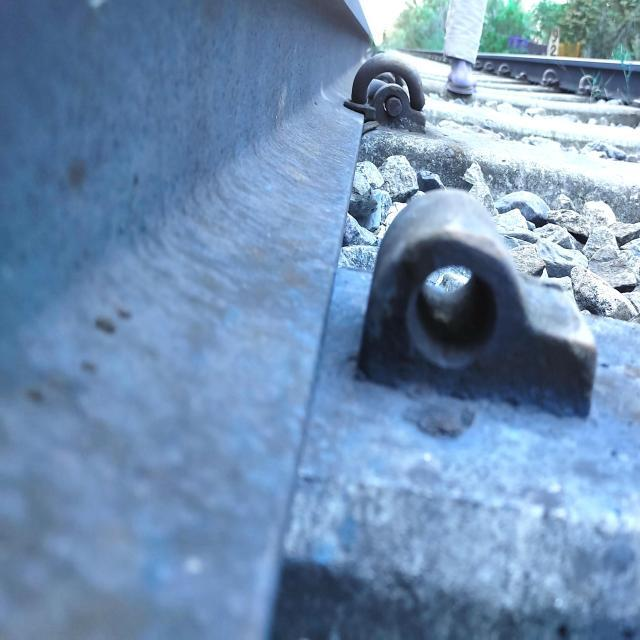Good Fasteners: (349, 53, 425, 131)
Missing Fastener: (346, 183, 613, 434)
